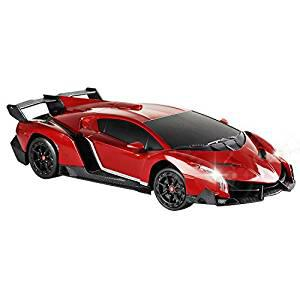car: (6, 83, 297, 222)
